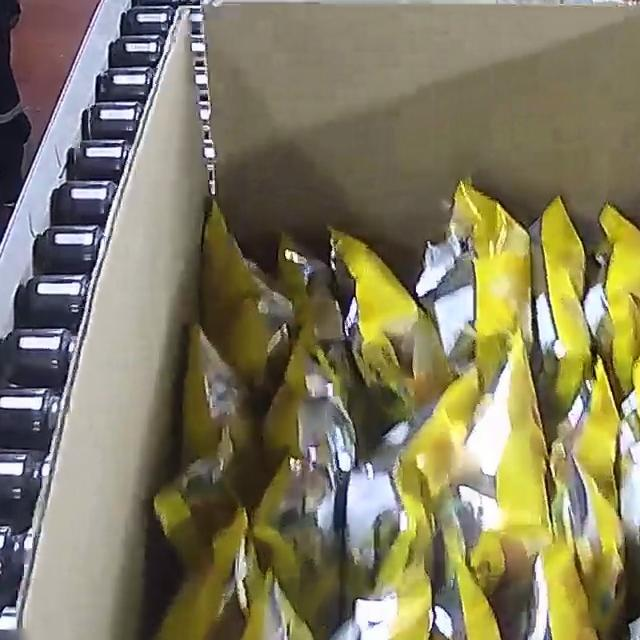salted: (119, 174, 640, 640)
